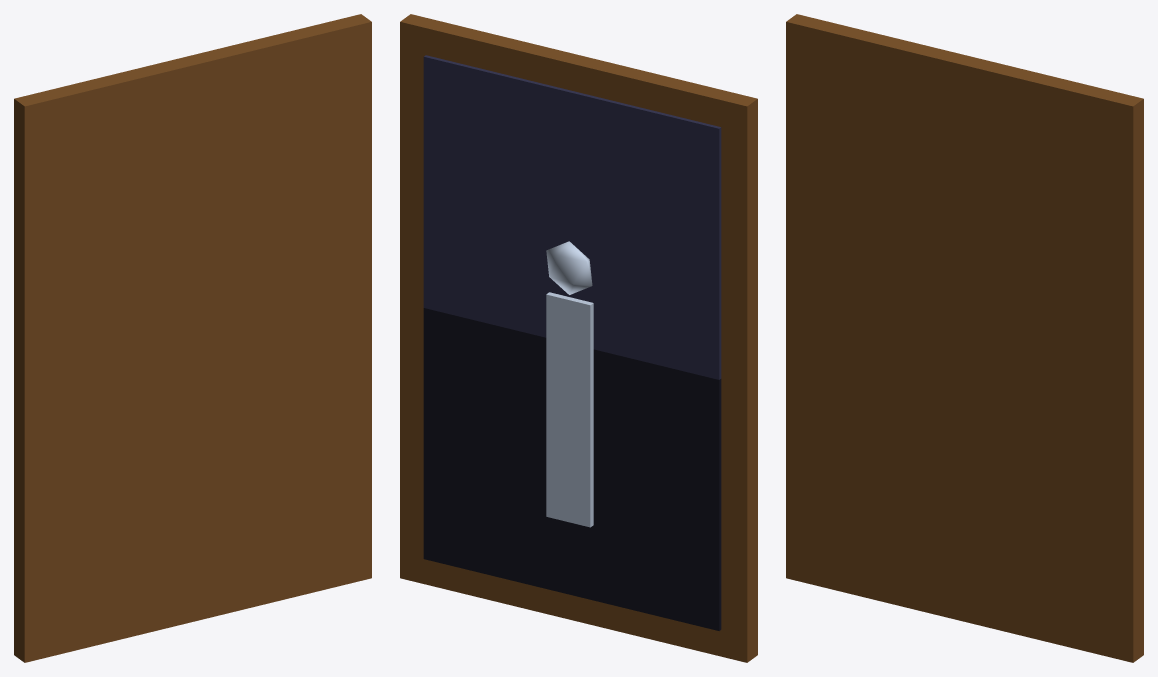
The model's file is trapped_ghost_v0.glb.
3 renders of one model, left to right at view 1: azimuth 30°, elevation 25°; view 2: azimuth 150°, elevation 25°; view 3: azimuth 330°, elevation 25°, orthographic.
Parts seen in each view (by area): view 1: trapped_ghost_v0; view 2: trapped_ghost_v0; view 3: trapped_ghost_v0.
Boxes of the visible parts, x1,y1,x2,y2 form: trapped_ghost_v0: (14,14,371,662); trapped_ghost_v0: (400,14,757,662); trapped_ghost_v0: (786,14,1143,662).
Bounding box in the file's own units: 0.94 × 1.44 × 0.0819.
